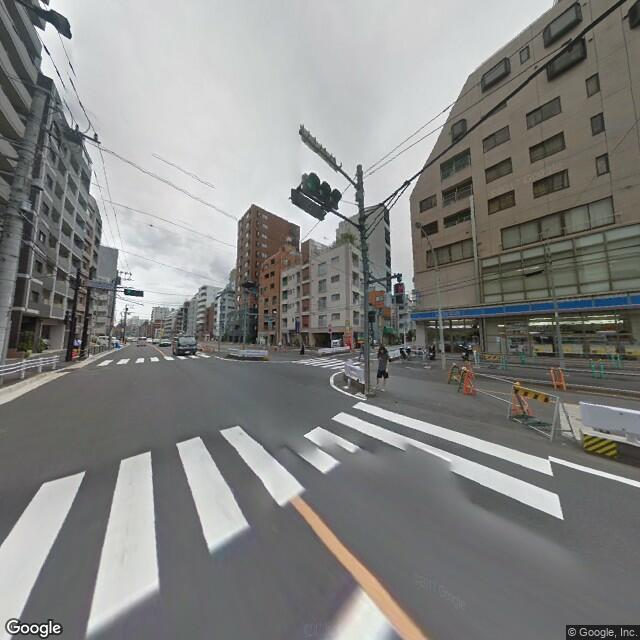lawson: (408, 288, 638, 323)
